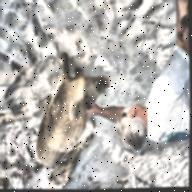boar: (2, 61, 126, 188)
